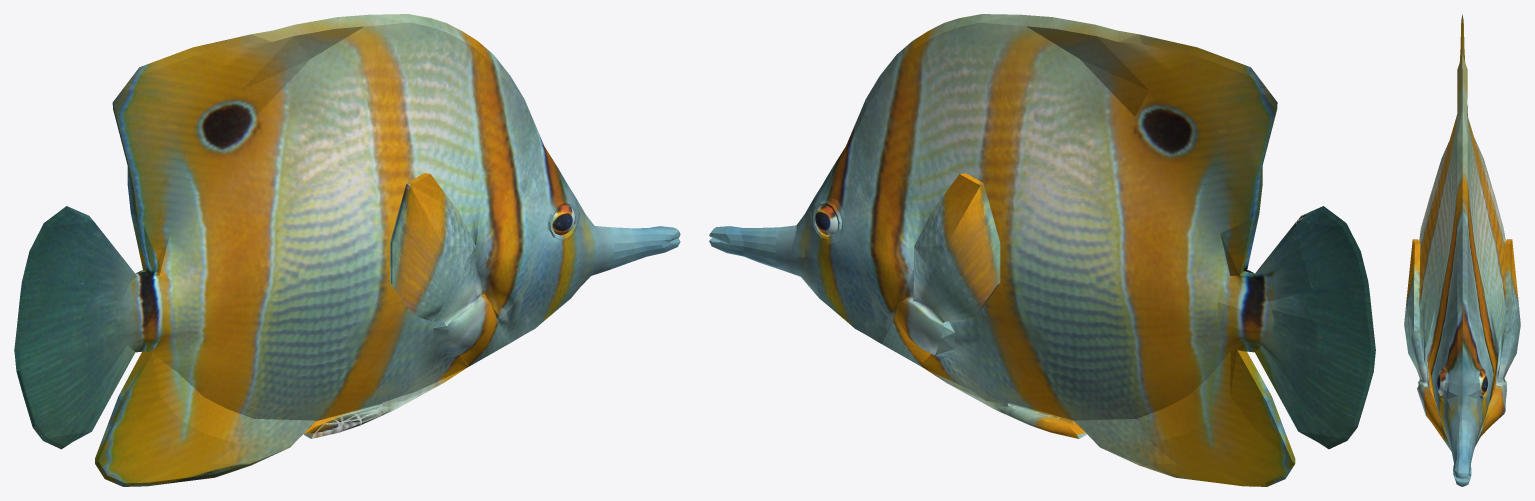
The model's file is Butterfly.FBX.
3 renders of one model, left to right at view 1: azimuth 30°, elevation 25°; view 2: azimuth 150°, elevation 25°; view 3: azimuth 270°, elevation 25°, orthographic. The views are drawn at different scales.
Parts seen in each view (by area): view 1: Butterfly Fish; view 2: Butterfly Fish; view 3: Butterfly Fish, Eye_Left_Buterfly, Eye_Right_Buterfly.
Boxes of the visible parts, box(x1,y1,x2,y2) form: Butterfly Fish: box(14, 14, 680, 486); Butterfly Fish: box(709, 14, 1375, 486); Butterfly Fish: box(1404, 14, 1520, 486); Eye_Left_Buterfly: box(1479, 371, 1487, 395); Eye_Right_Buterfly: box(1437, 371, 1445, 395).
Bounding box in the file's own units: 0.3023 × 0.0555 × 0.1894.
1 material, 1 textured.
